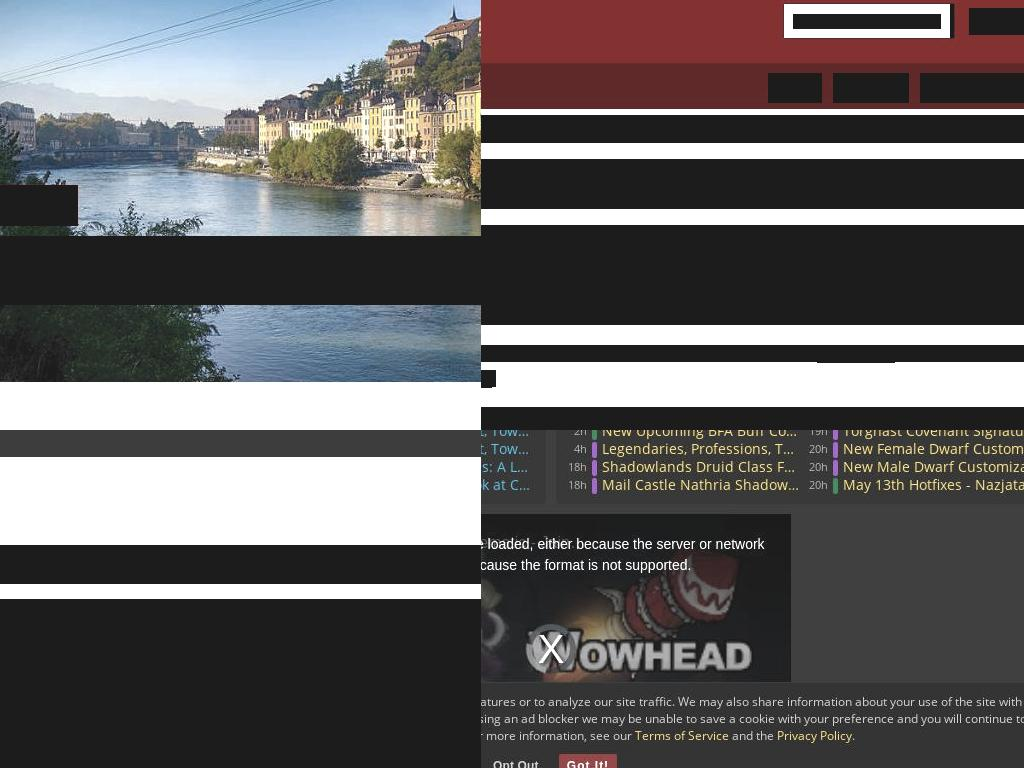button: (0, 623, 243, 768), (242, 623, 481, 768), (602, 440, 799, 458), (602, 458, 799, 476), (602, 476, 799, 494), (843, 440, 1024, 458), (843, 458, 1024, 476), (843, 476, 1024, 494), (920, 73, 1024, 103), (833, 73, 909, 103), (602, 430, 799, 440), (843, 430, 1024, 440), (768, 73, 822, 103), (969, 8, 1024, 35), (817, 345, 895, 363), (481, 440, 533, 458), (481, 458, 533, 476), (481, 476, 533, 494), (484, 754, 547, 768), (558, 754, 618, 768), (481, 370, 492, 388)
field: (793, 14, 941, 29)
heading: (0, 236, 481, 305), (0, 545, 481, 584), (481, 115, 1024, 143)
image: (481, 514, 791, 768), (481, 514, 791, 650), (0, 643, 223, 768), (262, 643, 481, 768), (481, 688, 791, 768), (997, 15, 1010, 28)
link: (635, 727, 729, 744), (777, 727, 852, 744)
text: (481, 225, 1024, 325), (481, 693, 1024, 744), (481, 159, 1024, 209), (0, 599, 481, 624), (481, 345, 818, 362), (0, 185, 78, 226), (526, 624, 576, 674), (481, 532, 592, 553), (895, 345, 1024, 362), (729, 727, 777, 744), (568, 440, 592, 458), (568, 458, 592, 476), (568, 476, 592, 494), (809, 440, 833, 458), (809, 458, 833, 476), (809, 476, 833, 494), (568, 430, 592, 440), (809, 430, 833, 440), (950, 4, 954, 38), (491, 370, 496, 387), (852, 727, 855, 744)
